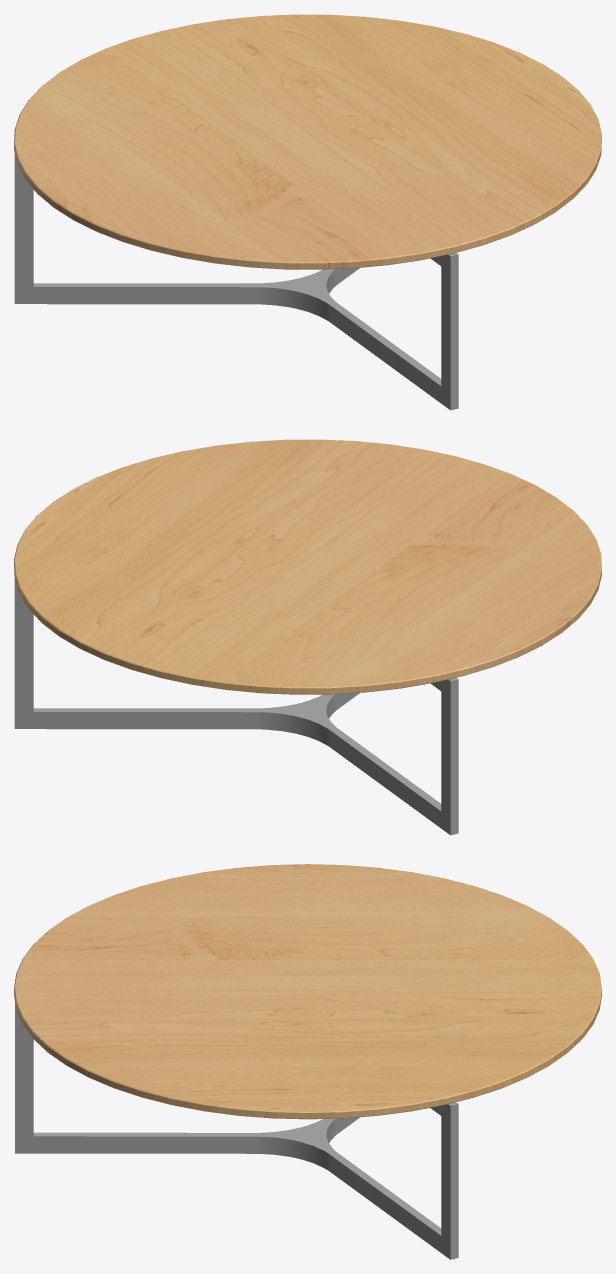
File: chaji.fbx
3 views of the same model, one above another, from view 1: azimuth 30°, elevation 25°; view 2: azimuth 150°, elevation 25°; view 3: azimuth 270°, elevation 25° (orthographic).
Parts seen in each view (by area): view 1: chaji; view 2: chaji; view 3: chaji.
Boxes of the visible parts, x1=… form: chaji: x1=14, y1=14, x2=601, y2=410; chaji: x1=14, y1=439, x2=601, y2=835; chaji: x1=14, y1=864, x2=601, y2=1259.
Size of the model in its own units: 132 by 40.5 by 132.
